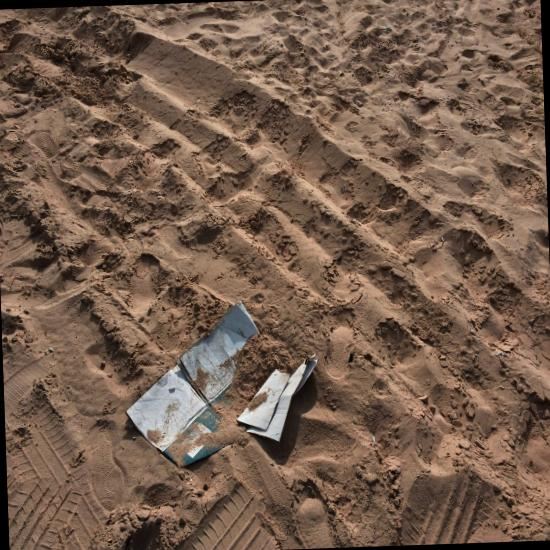Corrugated carton: (125, 300, 260, 467), (237, 353, 318, 442)
Unlabeled litter: (45, 347, 53, 355), (371, 435, 375, 441)
